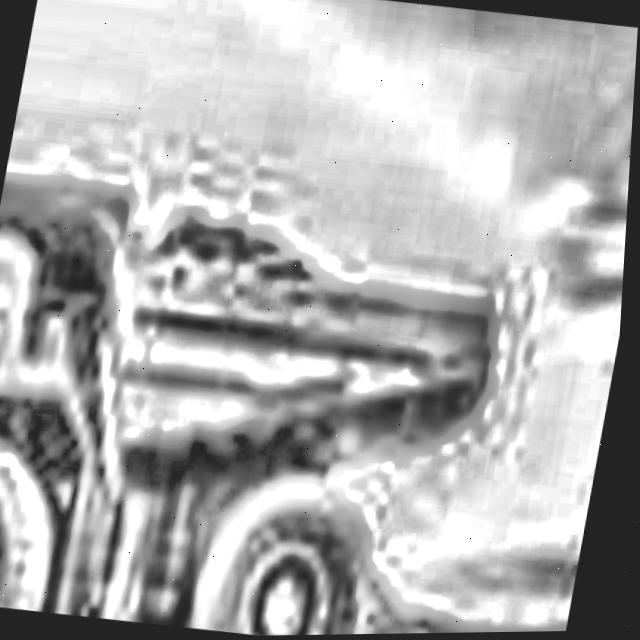dump_truck: (0, 108, 539, 640)
